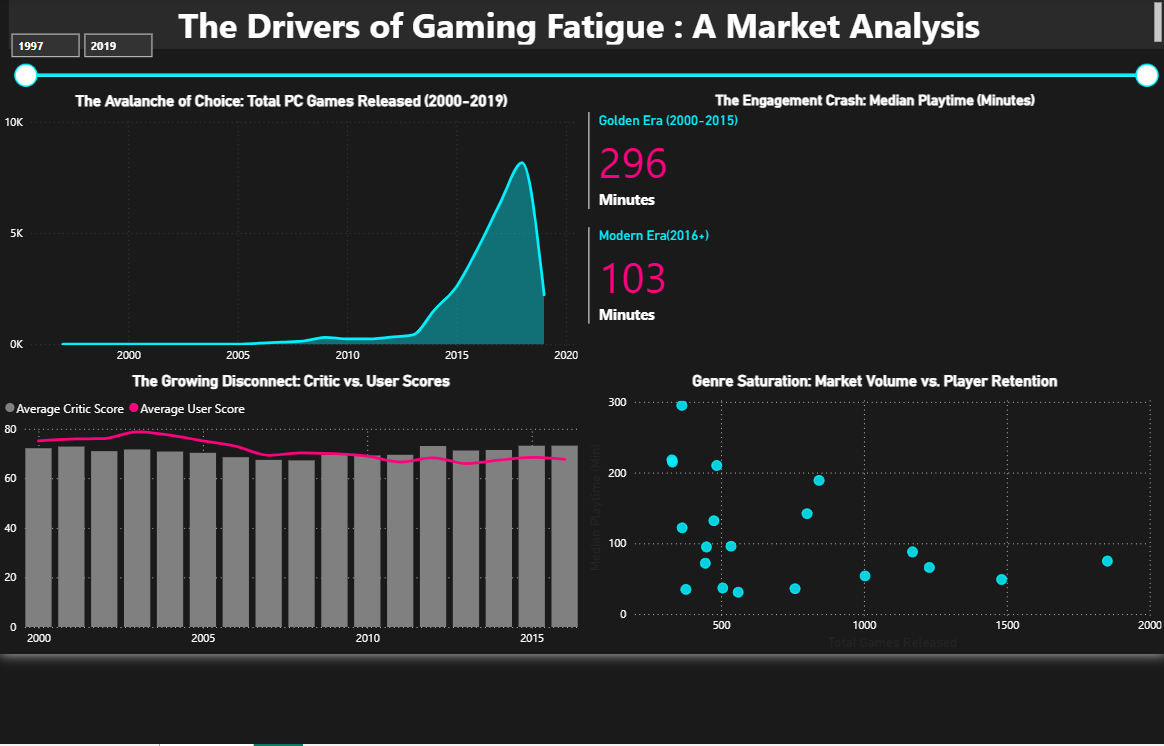

What the dashboard file says about the page in this screenshot:
{"tool":"powerbi","page":{"name":"Page 1","canvas":[1280,720],"ordinal":0},"visuals":[{"type":"textbox","box":[9.6,0,1270.7,56.3],"z":0},{"type":"areaChart","title":"The Avalanche of Choice: Total PC Games Released (2000-2019)","fields":{"Category":["The_Market_Overwhelm_Factor.release_year"],"Y":["Sum(The_Market_Overwhelm_Factor.total_games_released)"]},"box":[0,102.9,639.5,307.4],"z":1000},{"type":"multiRowCard","title":"The Engagement Crash: Median Playtime (Minutes)","fields":{"Values":["The_Generational_Shift.gaming_era","Sum(The_Generational_Shift.median_playtime_minutes)"]},"box":[640.8,102.9,639.5,307.4],"z":2000},{"type":"lineClusteredColumnComboChart","title":"The Growing Disconnect: Critic vs. User Scores","fields":{"Category":["Sentiment_Gaps.year_of_release"],"Y":["Sum(Sentiment_Gaps.avg_critic_score)"],"Y2":["Sum(Sentiment_Gaps.avg_user_score_scaled)"]},"box":[0,410.3,639.5,310.1],"z":3000},{"type":"scatterChart","title":"Genre Saturation: Market Volume vs. Player Retention","fields":{"Category":["Genre_Saturation.genres"],"X":["Sum(Genre_Saturation.total_releases)"],"Y":["Sum(Genre_Saturation.avg_median_playtime)"]},"box":[640.8,410.3,639.5,310.1],"z":3001},{"type":"slicer","fields":{"Values":["The_Market_Overwhelm_Factor.release_year"]},"box":[0,28.8,1280.3,74.1],"z":3002}]}

Visuals, with their boxes on the page's 1280x720 design canvas (x1, y1, x2, y2). These are canvas units, not pixel positions in the 1164x746 screenshot, which may show the page scaled, cropped or inside an application window:
textbox: 10, 0, 1280, 56
"The Avalanche of Choice: Total PC Games Released (2000-2019)" areaChart: 0, 103, 640, 410
"The Engagement Crash: Median Playtime (Minutes)" multiRowCard: 641, 103, 1280, 410
"The Growing Disconnect: Critic vs. User Scores" lineClusteredColumnComboChart: 0, 410, 640, 720
"Genre Saturation: Market Volume vs. Player Retention" scatterChart: 641, 410, 1280, 720
slicer - The_Market_Overwhelm_Factor.release_year: 0, 29, 1280, 103
